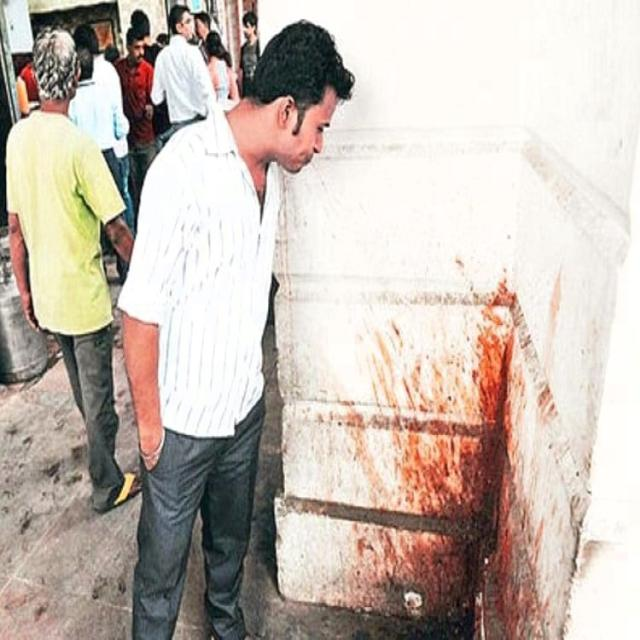Spitting: (233, 18, 385, 338)
